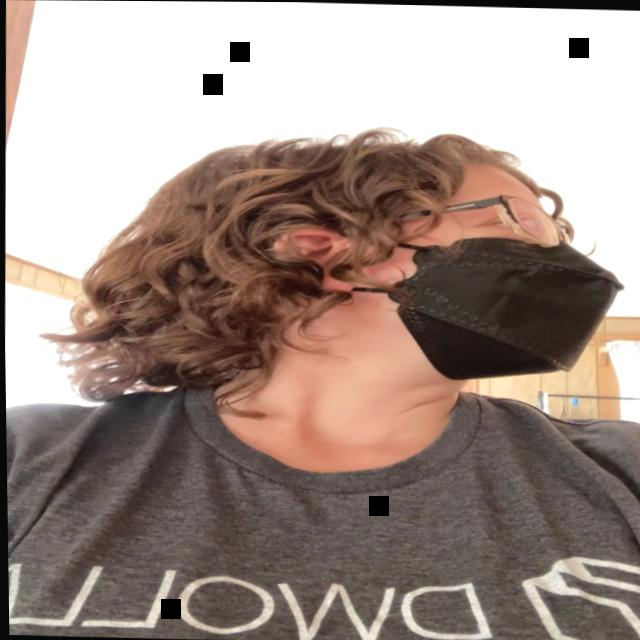Mask: (363, 157, 624, 380)
